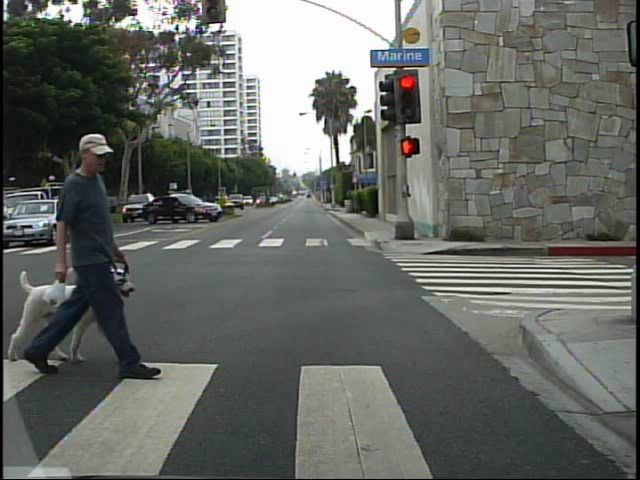person: (29, 115, 157, 382)
